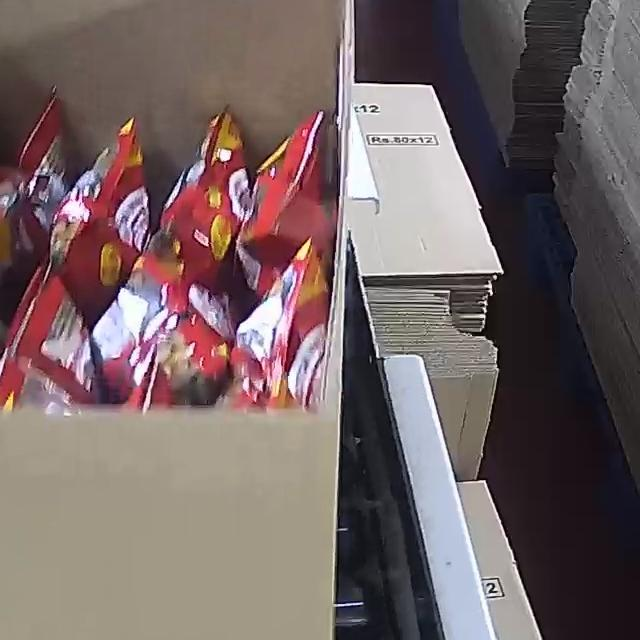masala: (0, 86, 337, 412)
